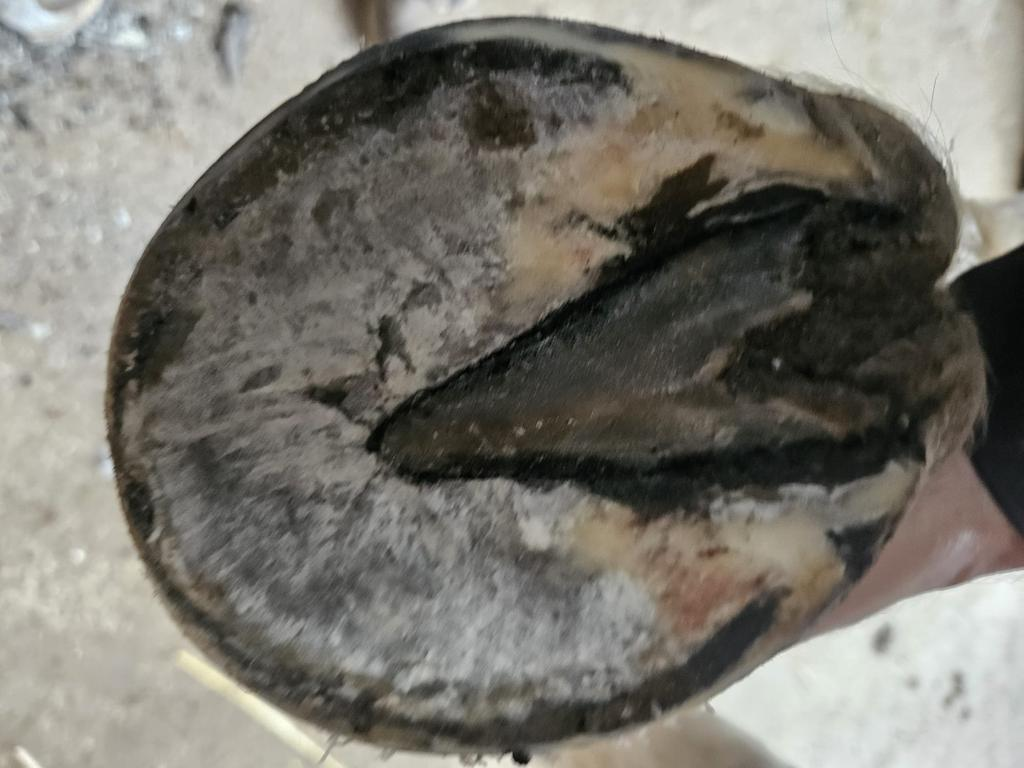horsesole: (103, 15, 922, 754)
